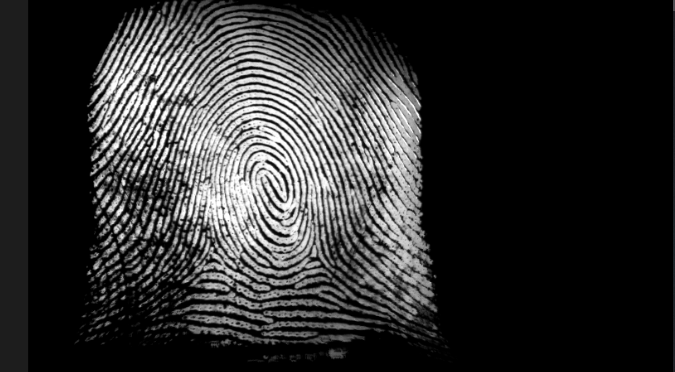nucelo: (248, 162, 291, 208)
verticilo: (196, 233, 226, 266), (301, 240, 332, 270)
